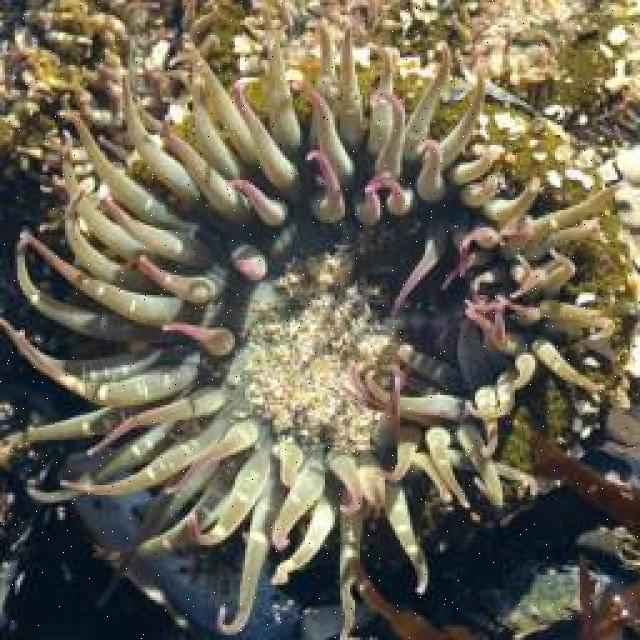reefs: (0, 21, 622, 638)
